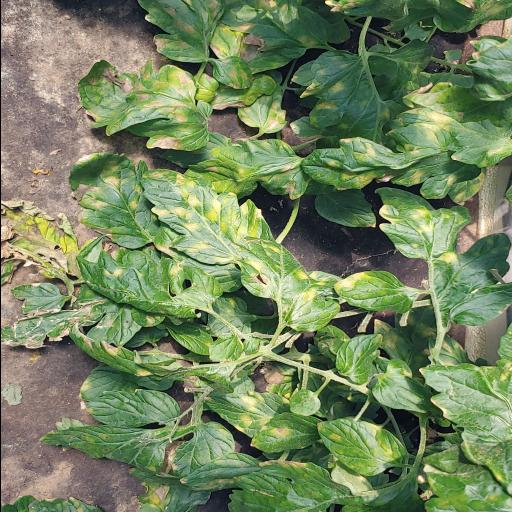disease_tomato: (374, 187, 512, 326), (142, 170, 262, 266), (234, 236, 340, 332), (68, 151, 156, 249), (298, 50, 386, 146), (384, 106, 512, 168), (300, 136, 436, 190), (188, 139, 308, 200), (316, 417, 406, 476), (204, 390, 289, 438), (334, 270, 414, 314)
